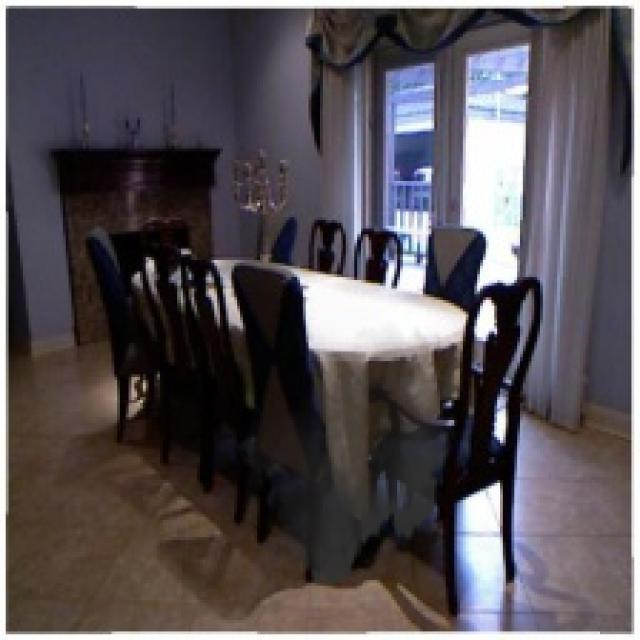Smoke: (234, 314, 457, 597)
